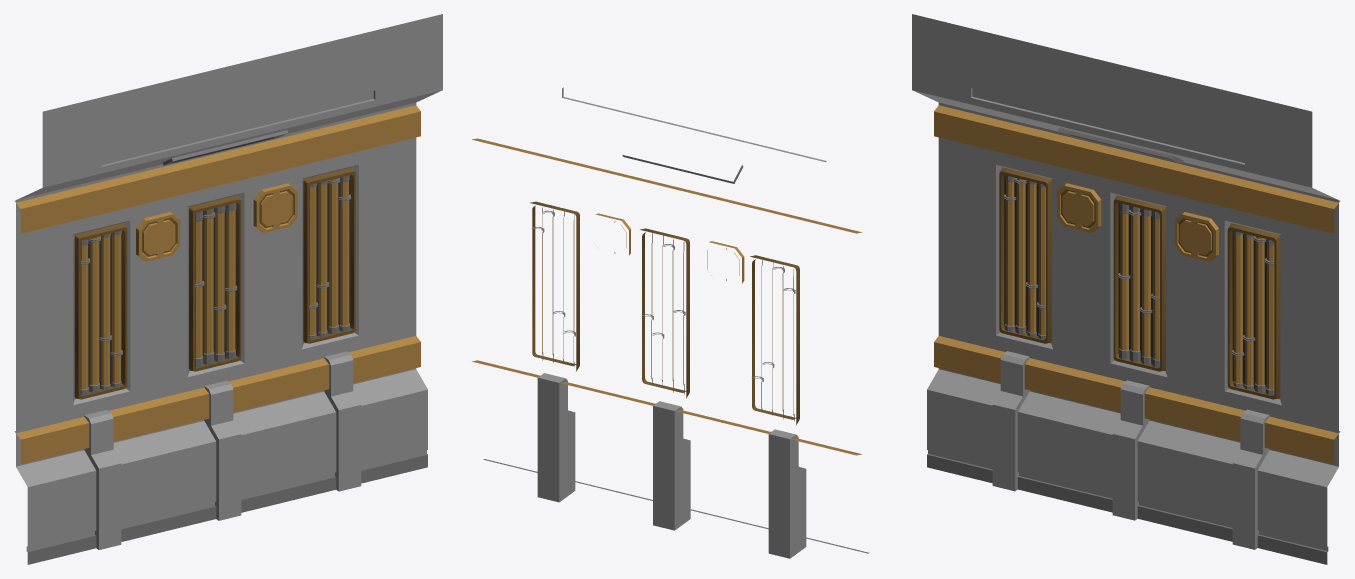
Rendered from Wall_2.glb.
The picture shows the model from 3 angles, left to right: view 1: azimuth 30°, elevation 25°; view 2: azimuth 150°, elevation 25°; view 3: azimuth 330°, elevation 25°; orthographic projection. The views are drawn at different scales.
Visible parts, largest first — view 1: Black; view 2: Black; view 3: Black.
Boxes of the visible parts, x1,y1,x2,y2 form: Black: (14, 14, 442, 564); Black: (472, 87, 869, 558); Black: (912, 14, 1340, 564).
Size of the model in its own units: 4 by 4.43 by 0.5333.
1 material, 1 textured.
